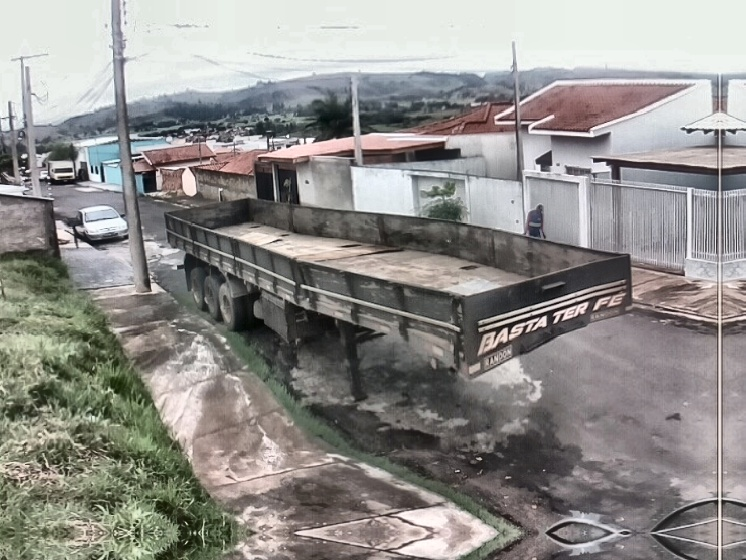person: (519, 202, 549, 241)
